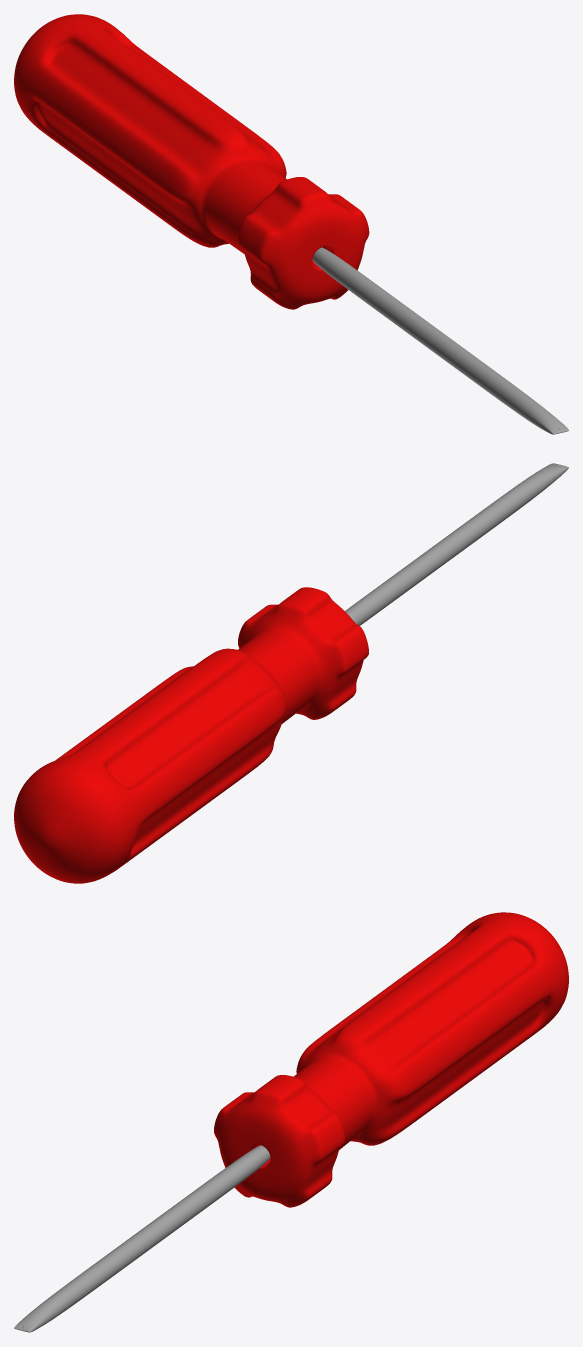
The model's file is screw_driver.fbx.
3 views of the same model, one above another, from view 1: azimuth 30°, elevation 25°; view 2: azimuth 150°, elevation 25°; view 3: azimuth 330°, elevation 25° (orthographic).
Visible parts, largest first — view 1: Cylinder, Cylinder.001; view 2: Cylinder, Cylinder.001; view 3: Cylinder, Cylinder.001.
Boxes of the visible parts, left/top/right/bottom form: Cylinder: left=14, top=14, right=369, bottom=309; Cylinder.001: left=312, top=247, right=568, bottom=434; Cylinder: left=14, top=587, right=368, bottom=883; Cylinder.001: left=345, top=463, right=568, bottom=625; Cylinder: left=214, top=912, right=568, bottom=1207; Cylinder.001: left=14, top=1145, right=270, bottom=1332.
Bounding box in the file's own units: 292 × 292 × 2350.
